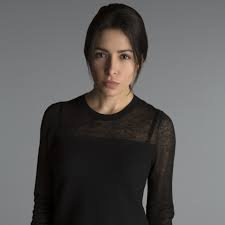noMask: (81, 3, 152, 98)
